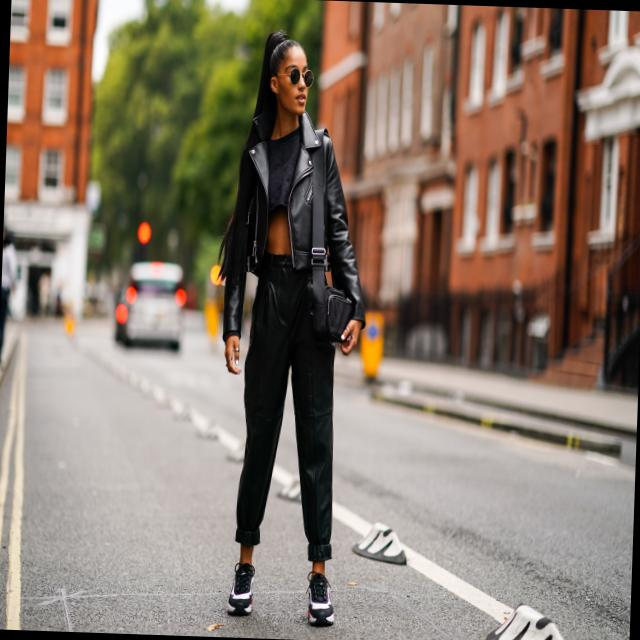Jacket: (215, 110, 369, 368)
